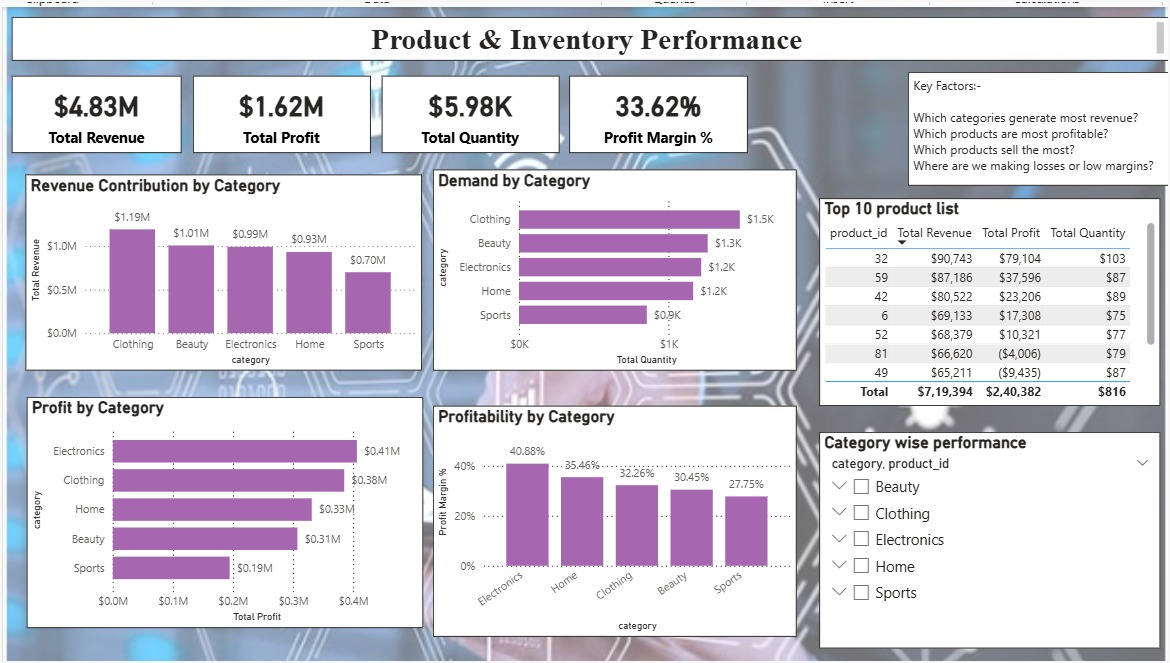

The dashboard page shown, as its layout file describes it:
{"tool":"powerbi","page":{"name":"Product & Inventory Performance","canvas":[1280,720],"ordinal":2},"visuals":[{"type":"textbox","box":[9.6,11,1270.7,48],"z":0},{"type":"textbox","box":[993.5,71.4,286.8,124.9],"z":1},{"type":"card","fields":{"Values":["order_items.Sum of Revenue"]},"box":[9.6,75.5,186.6,85.1],"z":2},{"type":"card","fields":{"Values":["order_items.Total Profit"]},"box":[208.6,75.5,194.9,85.1],"z":3},{"type":"card","fields":{"Values":["order_items.Total Quantity"]},"box":[415.8,75.5,194.9,85.1],"z":4},{"type":"card","fields":{"Values":["order_items.Profit Margin %"]},"box":[621.6,75.5,196.2,85.1],"z":5},{"type":"clusteredColumnChart","title":"Revenue Contribution by Category","fields":{"Category":["products.category"],"Y":["order_items.Sum of Revenue"]},"box":[24.7,183.9,435,215.4],"z":7},{"type":"clusteredBarChart","title":"Profit by Category","fields":{"Category":["products.category"],"Y":["order_items.Total Profit"]},"box":[26.1,428.1,435,253.9],"z":8},{"type":"clusteredBarChart","title":"Demand by Category","fields":{"Category":["products.category"],"Y":["order_items.Total Quantity"]},"box":[472,178.4,399.3,220.9],"z":10},{"type":"clusteredColumnChart","title":"Profitability by Category","fields":{"Category":["products.category"],"Y":["order_items.Profit Margin %"]},"box":[472,437.7,399.3,253.9],"z":11},{"type":"slicer","title":"Category wise performance ","fields":{"Values":["products.category","products.product_id"]},"box":[896.1,466.6,374.6,237.4],"z":12},{"type":"tableEx","title":"Top 10 product list","fields":{"Values":["order_items.product_id","order_items.Total Revenue","order_items.Total Profit","order_items.Total Quantity"]},"box":[896.1,209.9,374.6,227.8],"z":13}]}

Visuals, with their boxes on the page's 1280x720 design canvas (x1, y1, x2, y2). These are canvas units, not pixel positions in the 1170x663 screenshot, which may show the page scaled, cropped or inside an application window:
textbox: 10 11 1280 59
textbox: 994 71 1280 196
card - order_items.Sum of Revenue: 10 76 196 161
card - order_items.Total Profit: 209 76 404 161
card - order_items.Total Quantity: 416 76 611 161
card - order_items.Profit Margin %: 622 76 818 161
"Revenue Contribution by Category" clusteredColumnChart: 25 184 460 399
"Profit by Category" clusteredBarChart: 26 428 461 682
"Demand by Category" clusteredBarChart: 472 178 871 399
"Profitability by Category" clusteredColumnChart: 472 438 871 692
"Category wise performance " slicer: 896 467 1271 704
"Top 10 product list" tableEx: 896 210 1271 438
